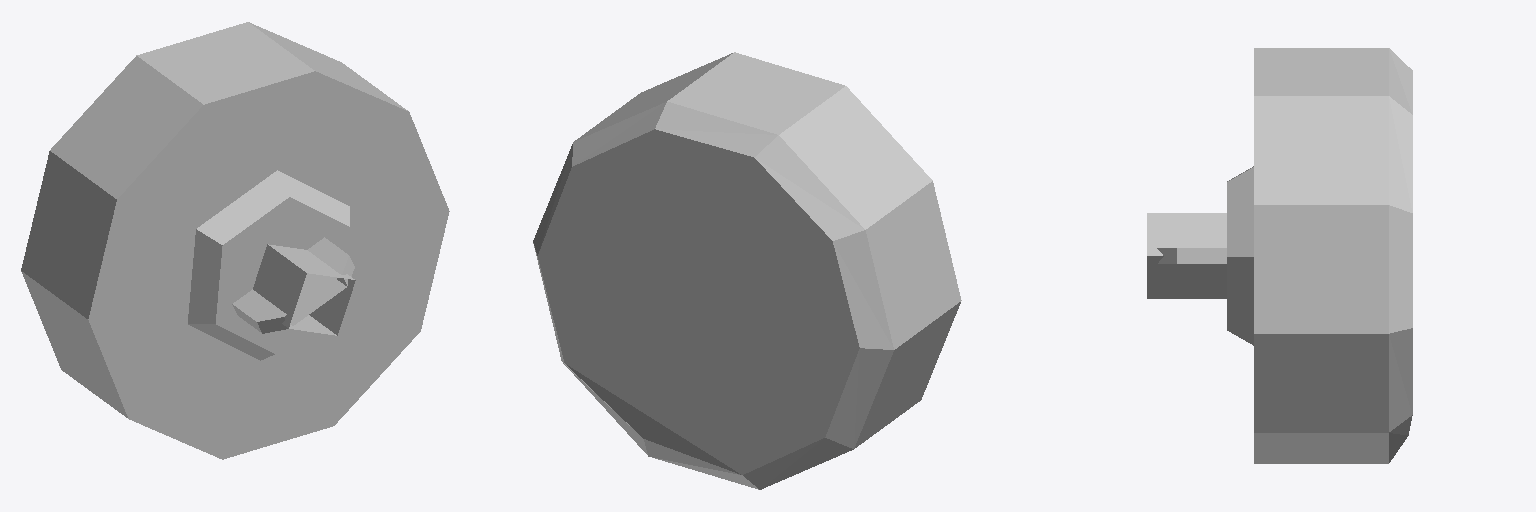
File: wheel198.obj
3 views of the same model, side by side, from view 1: azimuth 30°, elevation 25°; view 2: azimuth 150°, elevation 25°; view 3: azimuth 270°, elevation 25° (orthographic).
Parts seen in each view (by area): view 1: wheel_low_textures; view 2: wheel_low_textures; view 3: wheel_low_textures.
Boxes of the visible parts, x1=… form: wheel_low_textures: x1=21, y1=22, x2=449, y2=459; wheel_low_textures: x1=533, y1=52, x2=961, y2=489; wheel_low_textures: x1=1147, y1=48, x2=1412, y2=463.
Size of the model in its own units: 1.56 by 1.51 by 0.9907.